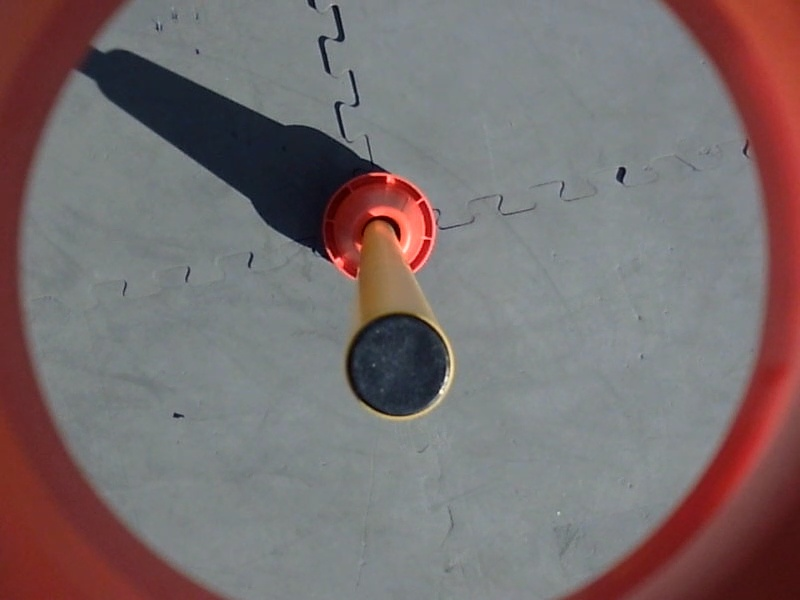tip: (341, 309, 464, 423)
